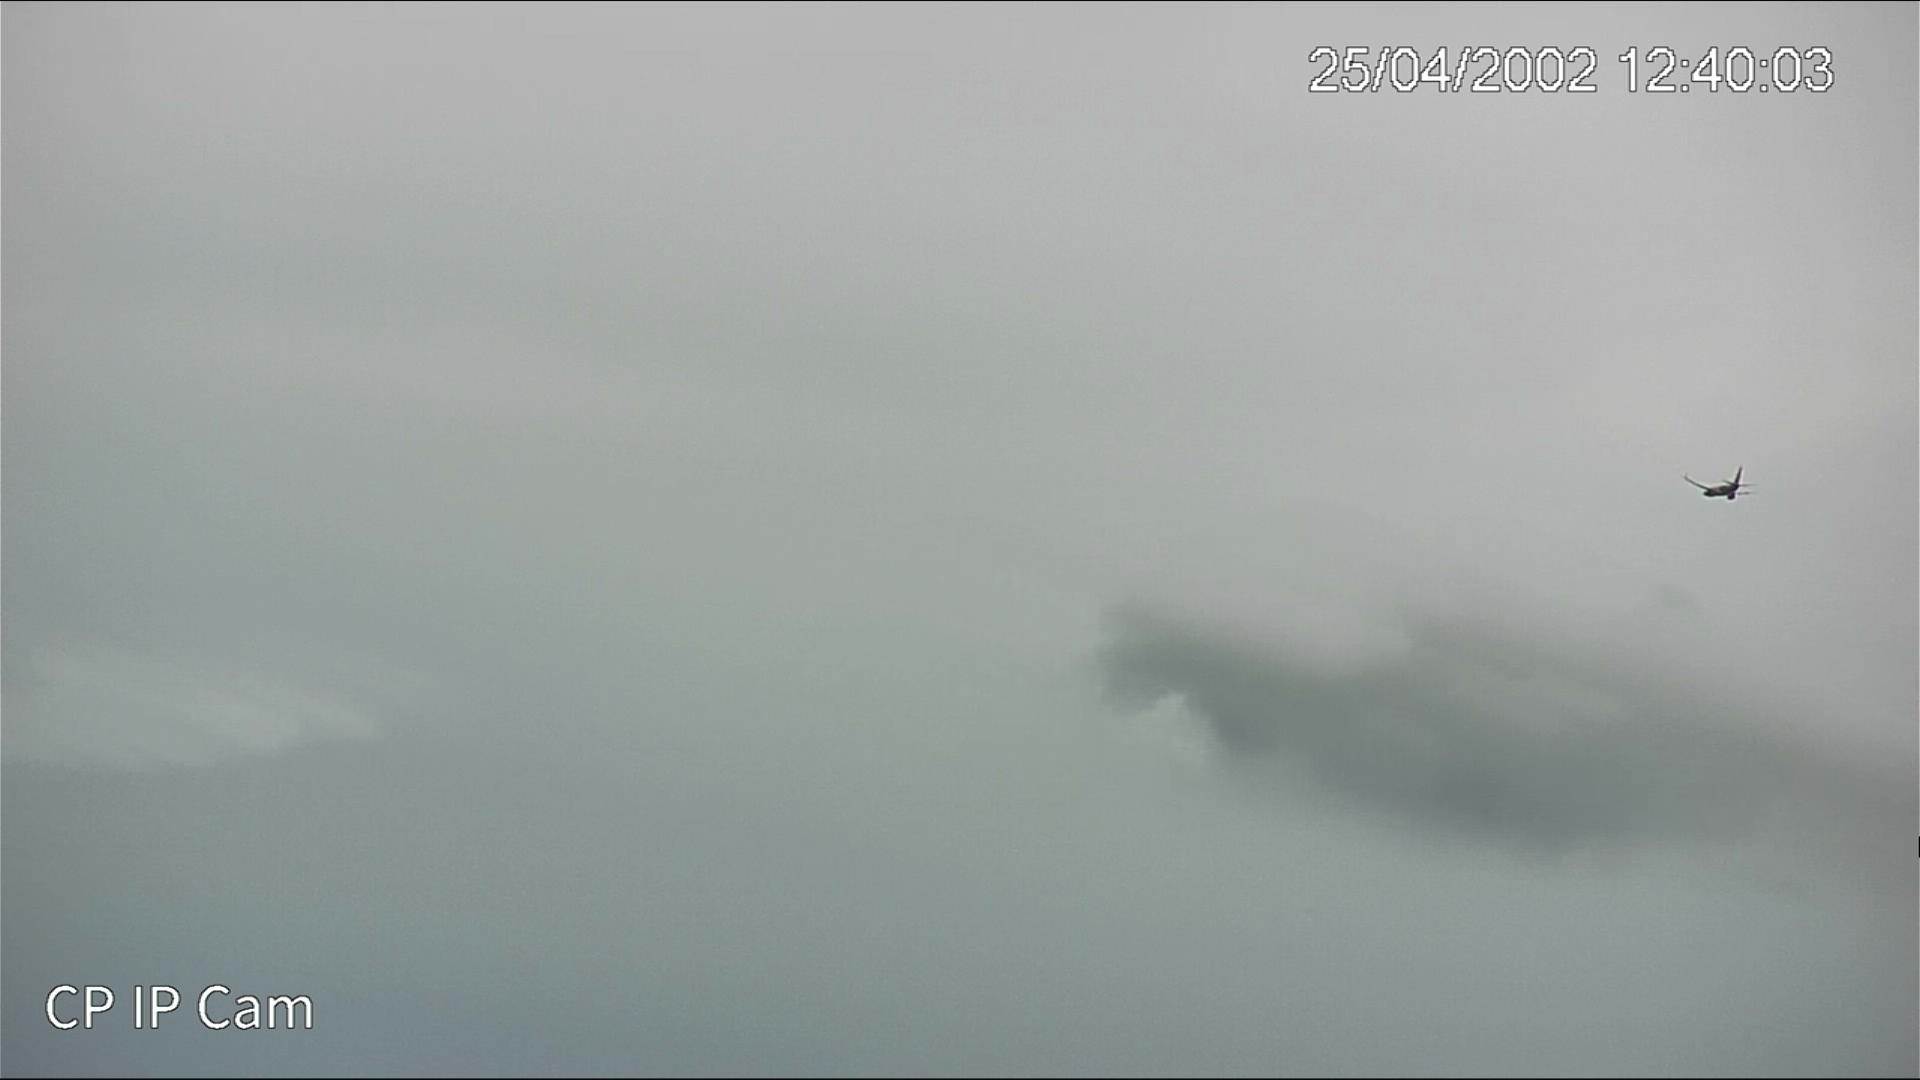SU_30: (1681, 464, 1754, 502)
